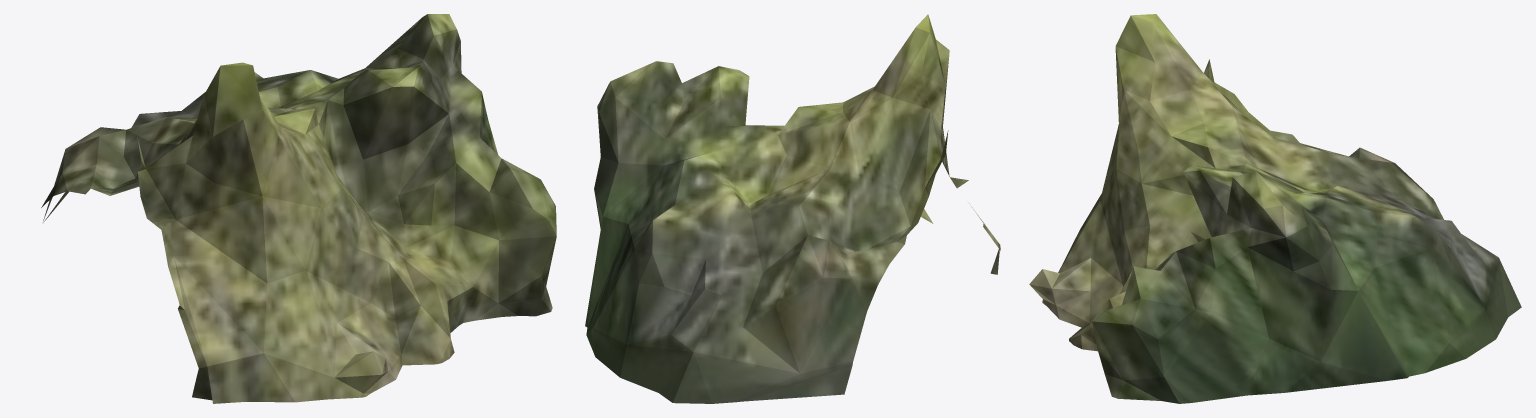
3 renders of one model, left to right at view 1: azimuth 30°, elevation 25°; view 2: azimuth 150°, elevation 25°; view 3: azimuth 270°, elevation 25°, orthographic. The views are drawn at different scales.
Size of the model in its own units: 3.84 by 2.98 by 5.07.
1 material, 1 textured.
